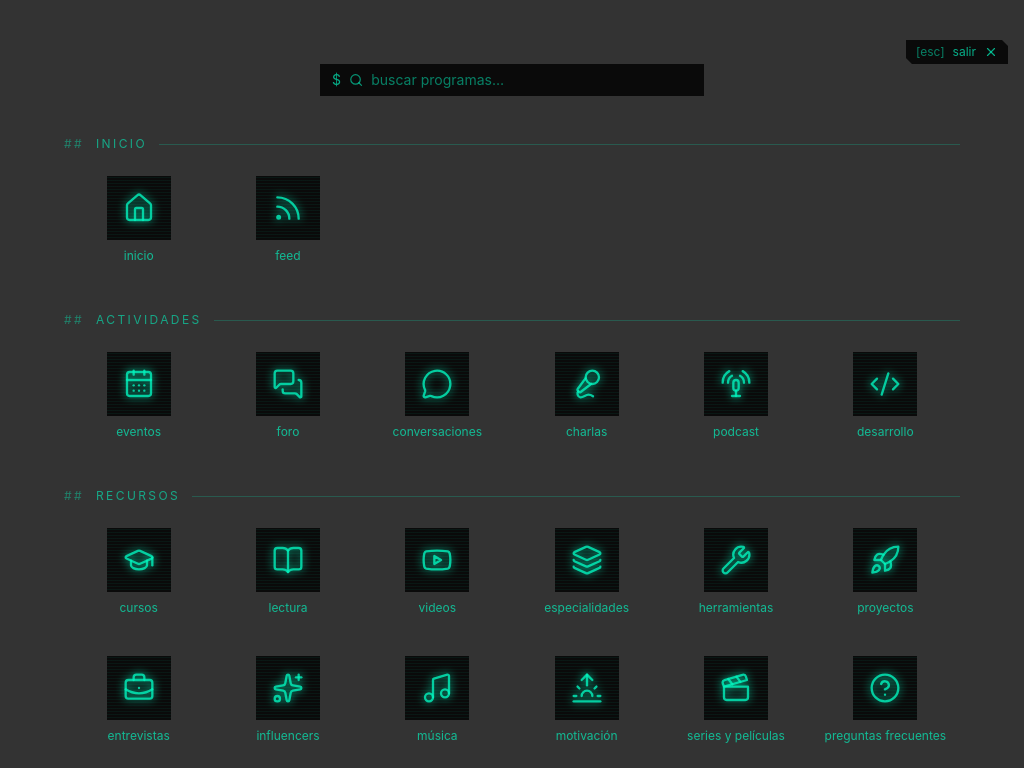
Test: OsLauncher › shows an error when nothing matches and Enter does nothing
In the field with placeholder "buscar programas…": (532, 80) [371,70,692,90], type "zzz"
Then press Enter
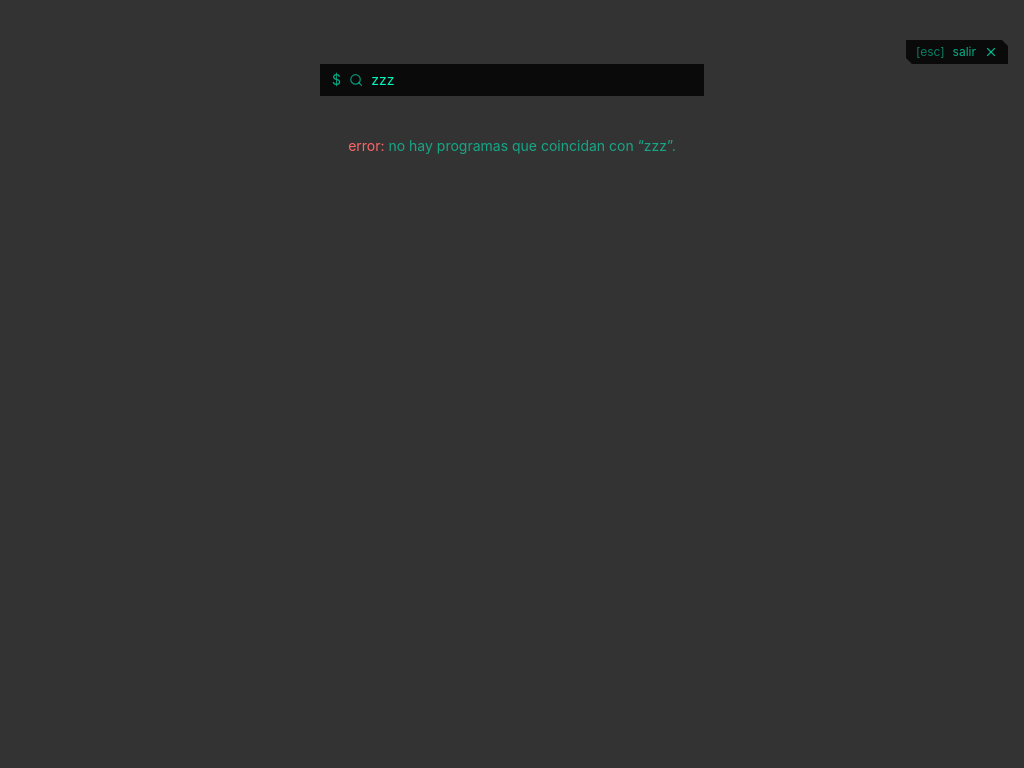
Check: the text "error: no hay programas que coincidan con “zzz”." is shown, box [348,137,676,154]
